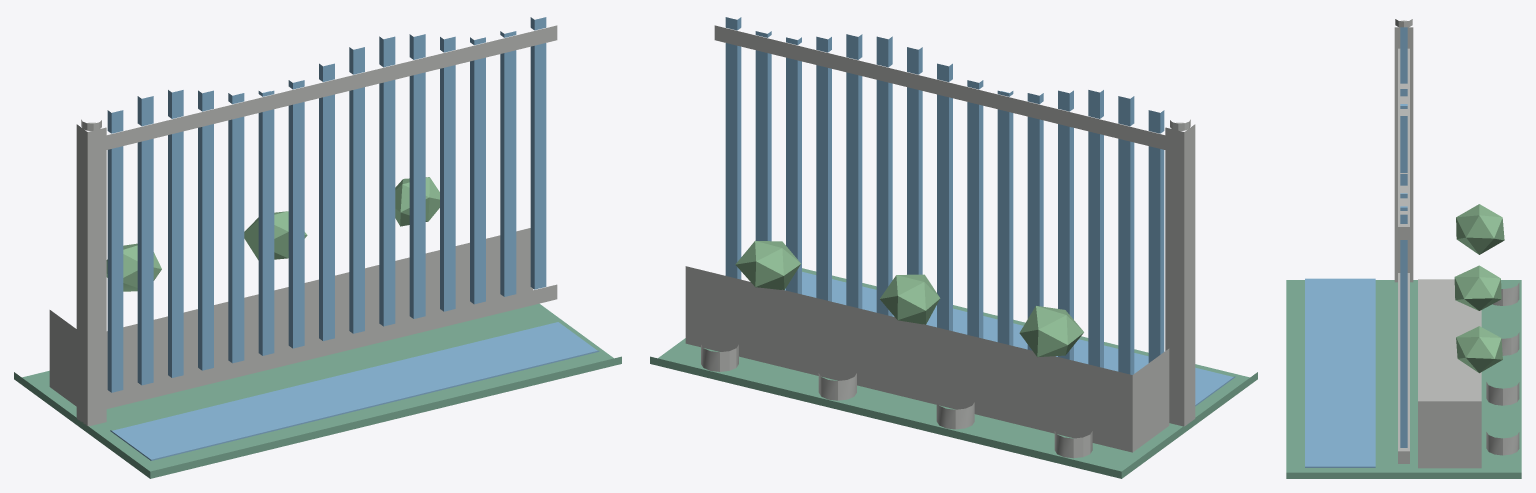
File: v5_panel.glb
The picture shows the model from 3 angles, left to right: view 1: azimuth 30°, elevation 25°; view 2: azimuth 150°, elevation 25°; view 3: azimuth 270°, elevation 25°; orthographic projection. The views are drawn at different scales.
Visible parts, largest first — view 1: Infill, Safety_Pad, River_Ribbon, Stone_Base, Rails, Posts, Infill_Wave, Foliage; view 2: Infill, Stone_Base, Safety_Pad, Posts, Rails, Foliage, Infill_Wave, River_Ribbon, Pebbles; view 3: Safety_Pad, River_Ribbon, Stone_Base, Foliage, Rails, Posts, Pebbles, Infill, Infill_Wave.
Part boxes in pixels (x1=…): Infill: x1=107, y1=43, x2=546, y2=392; Safety_Pad: x1=14, y1=303, x2=621, y2=478; River_Ribbon: x1=110, y1=322, x2=599, y2=460; Stone_Base: x1=49, y1=228, x2=533, y2=406; Rails: x1=106, y1=25, x2=557, y2=408; Posts: x1=76, y1=124, x2=106, y2=426; Infill_Wave: x1=107, y1=17, x2=546, y2=133; Foliage: x1=106, y1=177, x2=439, y2=291; Infill: x1=725, y1=43, x2=1164, y2=374; Stone_Base: x1=685, y1=266, x2=1169, y2=452; Safety_Pad: x1=650, y1=268, x2=1257, y2=478; Posts: x1=1165, y1=124, x2=1195, y2=426; Rails: x1=714, y1=25, x2=1165, y2=149; Foliage: x1=735, y1=240, x2=1083, y2=357; Infill_Wave: x1=725, y1=17, x2=1164, y2=133; River_Ribbon: x1=785, y1=272, x2=1235, y2=406; Pebbles: x1=701, y1=344, x2=1092, y2=458; Safety_Pad: x1=1286, y1=280, x2=1521, y2=478; River_Ribbon: x1=1305, y1=278, x2=1375, y2=467; Stone_Base: x1=1418, y1=279, x2=1481, y2=468; Foliage: x1=1454, y1=204, x2=1504, y2=373; Rails: x1=1398, y1=48, x2=1409, y2=463; Posts: x1=1394, y1=27, x2=1413, y2=282; Pebbles: x1=1486, y1=283, x2=1519, y2=455; Infill: x1=1400, y1=240, x2=1407, y2=447; Infill_Wave: x1=1400, y1=27, x2=1407, y2=223.
Size of what is drawn, in the model's own units: 2 by 1.29 by 1.
